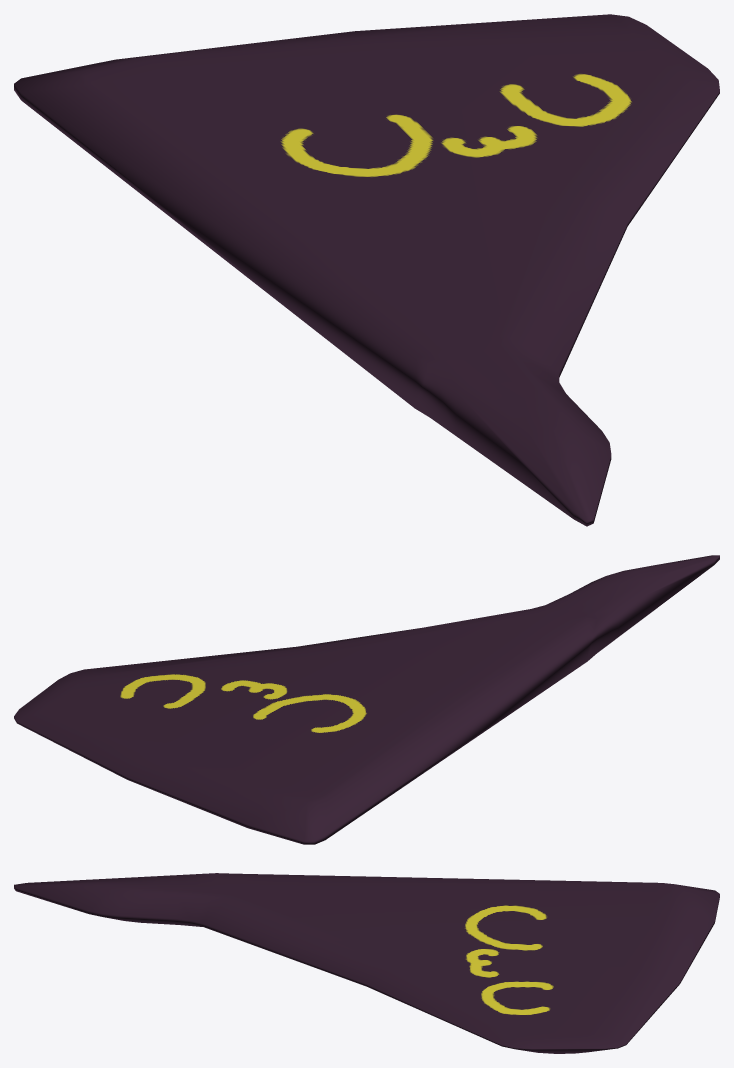
The model's file is wing.glb.
3 renders of one model, top to bottom at view 1: azimuth 30°, elevation 25°; view 2: azimuth 150°, elevation 25°; view 3: azimuth 270°, elevation 25°, orthographic. The views are drawn at different scales.
Visible parts, largest first — view 1: Wings; view 2: Wings; view 3: Wings.
Part boxes in pixels (box(x1,y1,x2,y2)): Wings: box(14, 14, 719, 526); Wings: box(14, 555, 719, 844); Wings: box(14, 873, 719, 1053).
Bounding box in the file's own units: 4.86 × 0.4655 × 8.94.
Materials: 1 (1 with a texture image).
